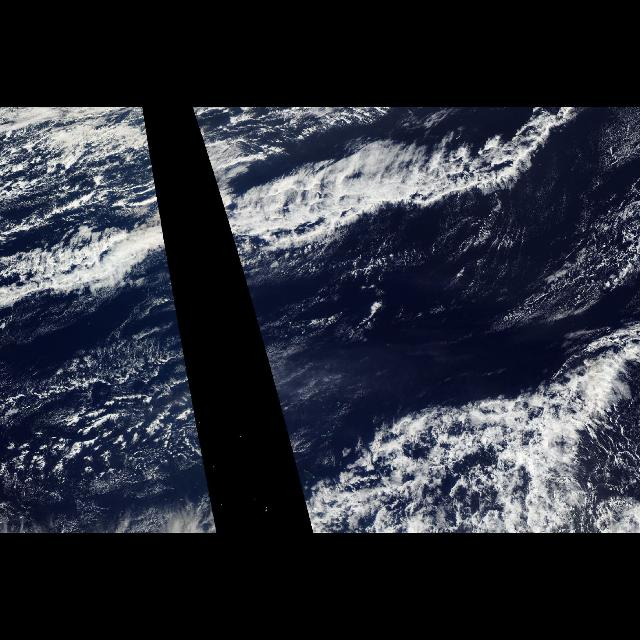Fish: (193, 115, 582, 319), (1, 115, 180, 319)
